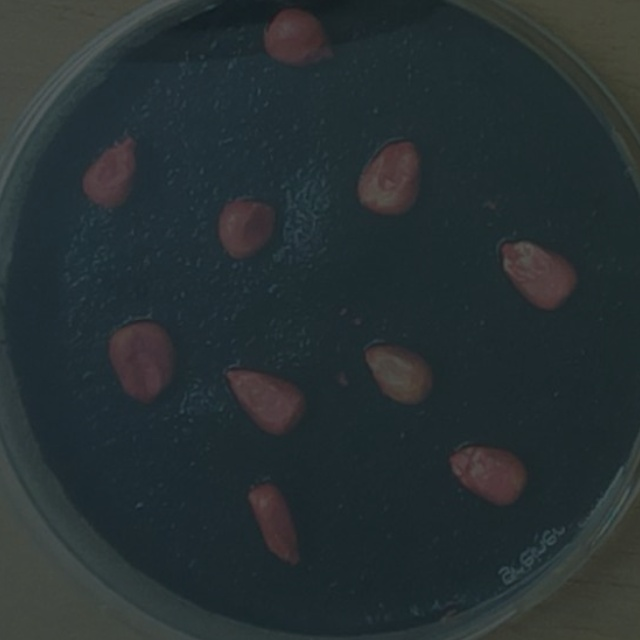Zea mays: (100, 311, 187, 413), (218, 359, 315, 447), (490, 231, 585, 320), (236, 473, 311, 580), (441, 436, 535, 517), (350, 131, 428, 226), (254, 1, 346, 78), (354, 336, 443, 415), (77, 126, 146, 218), (211, 187, 286, 269)
